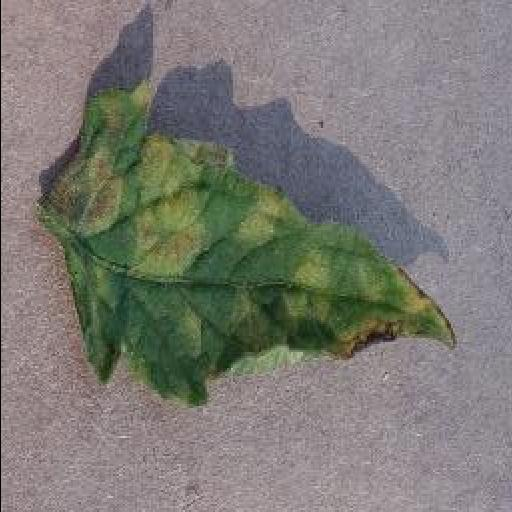disease_tomato: (36, 84, 458, 402)
